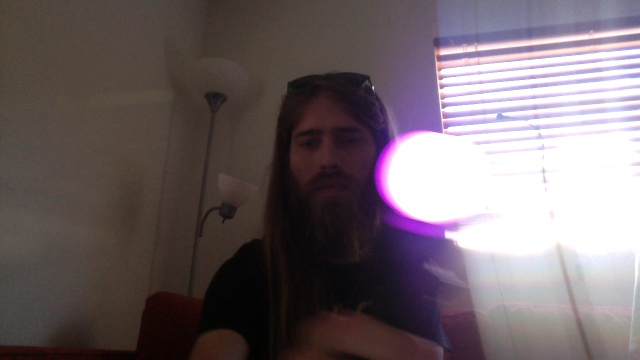wand: (376, 133, 488, 224)
